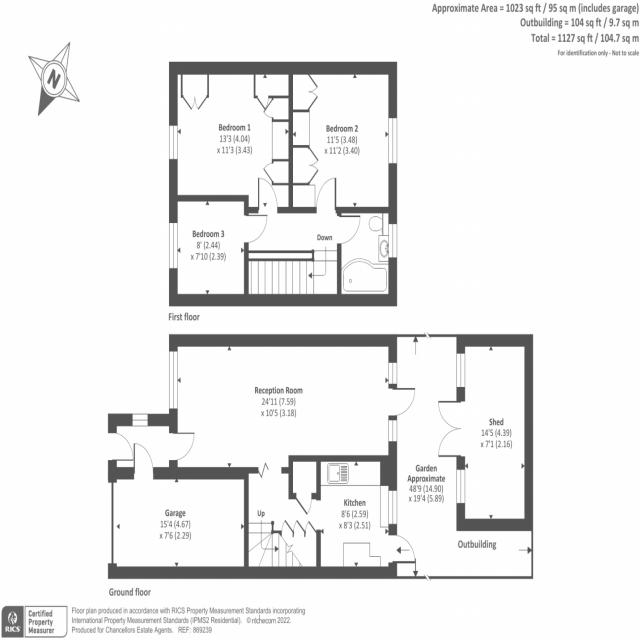DOOR: (169, 430, 197, 463), (132, 442, 155, 480), (389, 534, 417, 565), (315, 176, 338, 213), (338, 212, 363, 246), (244, 211, 269, 245), (389, 387, 417, 417), (257, 176, 279, 213)
DOUBLE DOOR: (437, 398, 465, 458)
ROOM: (168, 334, 418, 473), (169, 62, 293, 213), (288, 62, 397, 214), (316, 456, 417, 582), (169, 195, 269, 307)
WINDOW: (169, 350, 178, 410), (168, 220, 178, 270), (388, 116, 398, 165), (388, 487, 398, 528), (456, 350, 466, 389), (456, 467, 466, 505), (388, 221, 398, 258), (168, 124, 178, 160), (388, 415, 398, 443), (388, 361, 398, 388), (131, 413, 149, 427)
